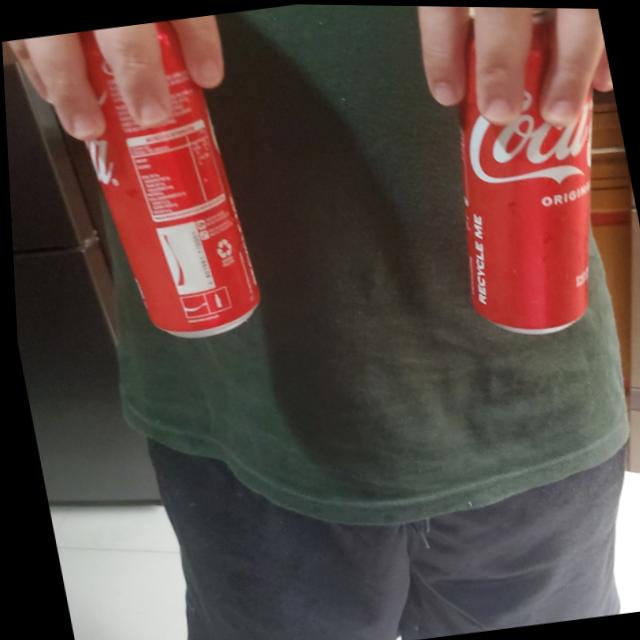coke: (418, 5, 640, 343), (59, 13, 265, 347)
